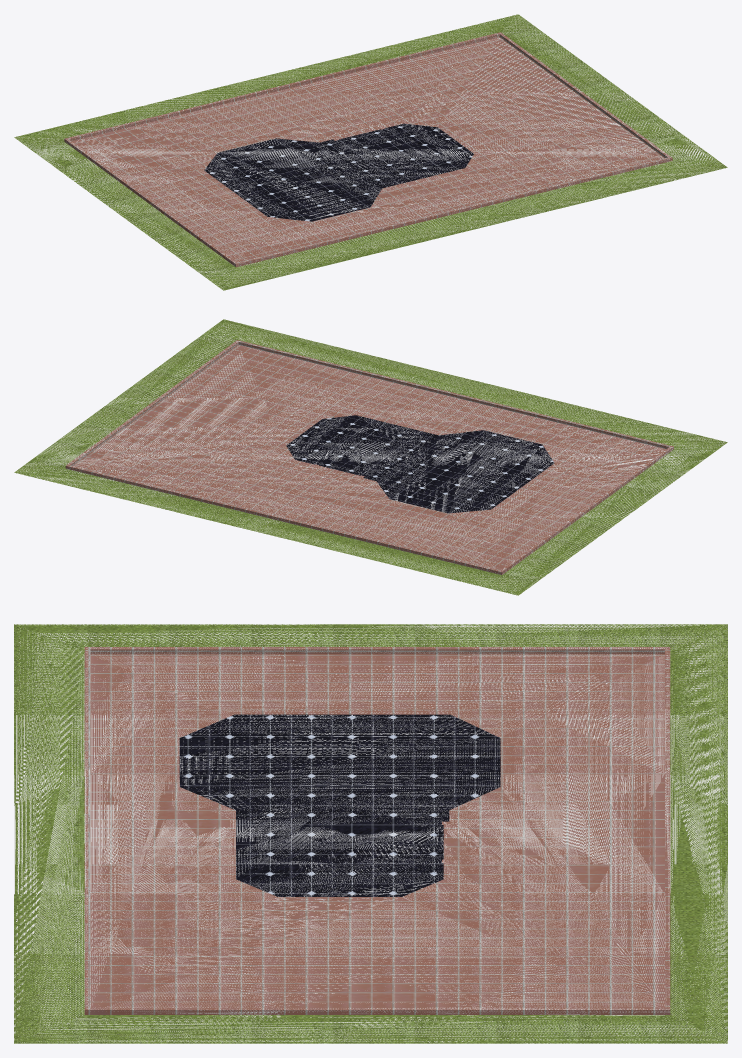
Rendered from suelos.fbx.
3 views of the same model, one above another, from view 1: azimuth 30°, elevation 25°; view 2: azimuth 150°, elevation 25°; view 3: azimuth 270°, elevation 25° (orthographic). The views are drawn at different scales.
Parts seen in each view (by area): view 1: Componente_4_1, Componente_3_1, Componente_5_1; view 2: Componente_4_1, Componente_3_1, Componente_5_1; view 3: Componente_4_1, Componente_3_1, Componente_5_1.
Boxes of the visible parts, x1,y1,x2,y2 form: Componente_4_1: (64,32,672,267); Componente_3_1: (14,14,727,290); Componente_5_1: (204,123,473,221); Componente_4_1: (65,340,673,574); Componente_3_1: (14,319,727,595); Componente_5_1: (286,415,554,513); Componente_4_1: (84,647,670,1014); Componente_3_1: (14,624,727,1043); Componente_5_1: (179,714,500,896).
Size of the model in its own units: 16.09 by 0.0889 by 11.57.
